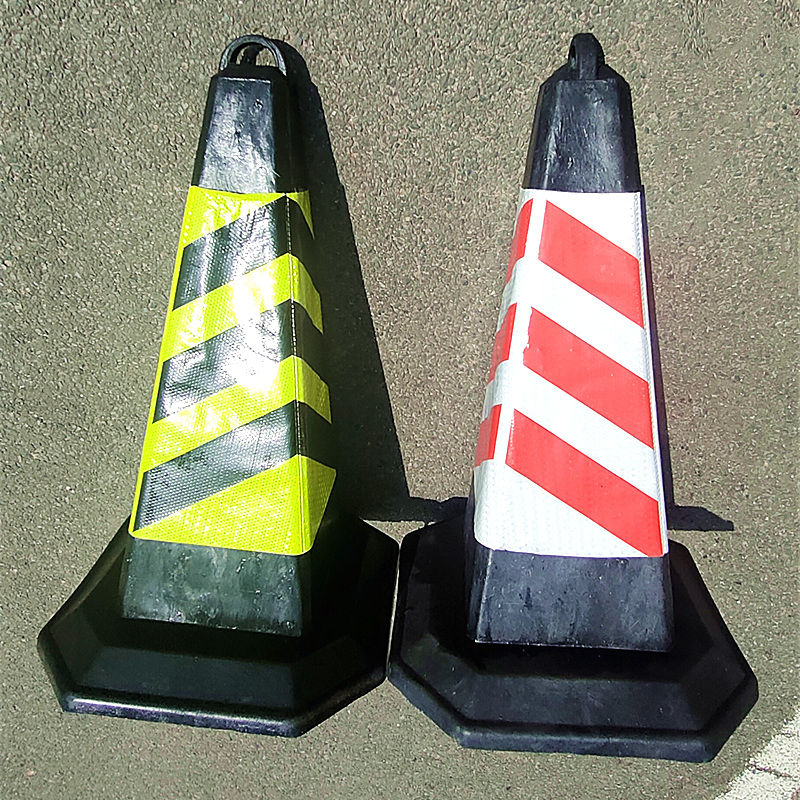traffic_cone: (404, 29, 777, 766), (44, 24, 388, 743)
